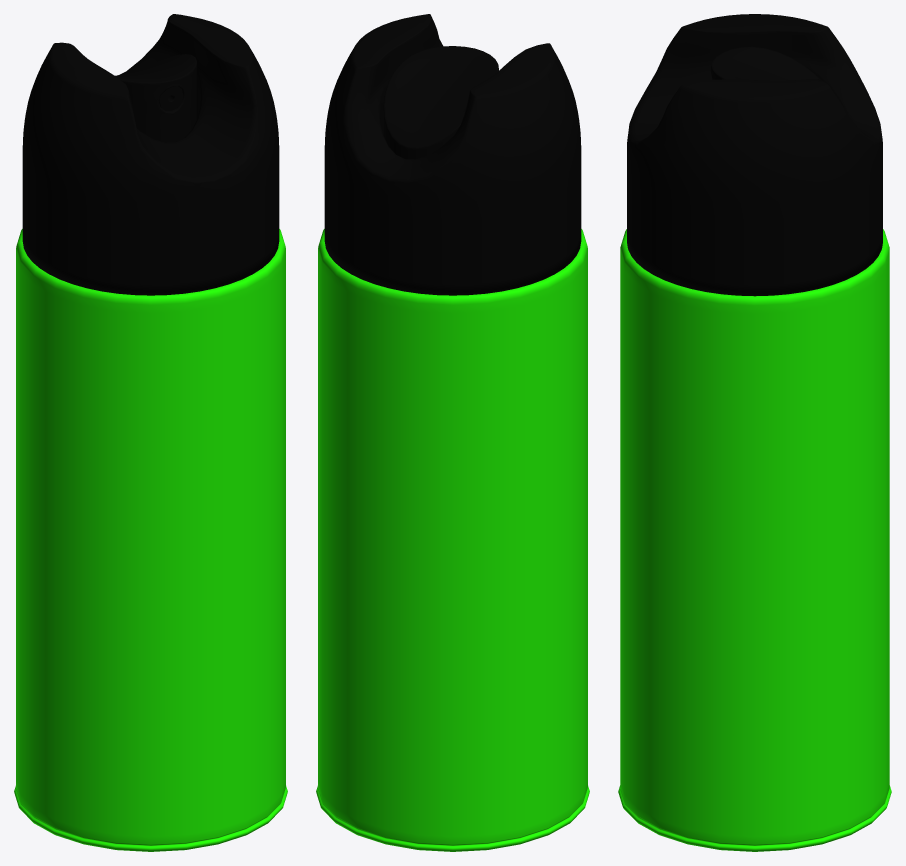
The model's file is bug spray.fbx.
3 renders of one model, left to right at view 1: azimuth 30°, elevation 25°; view 2: azimuth 150°, elevation 25°; view 3: azimuth 270°, elevation 25°, orthographic.
Visible parts, largest first — view 1: bottle, top; view 2: bottle, top; view 3: bottle, top.
Boxes of the visible parts, bbox=[...] form: bottle: bbox=[14, 229, 287, 851]; top: bbox=[22, 14, 279, 295]; bottle: bbox=[316, 229, 589, 851]; top: bbox=[324, 14, 581, 295]; bottle: bbox=[618, 229, 891, 851]; top: bbox=[627, 14, 882, 296].
Size of the model in its own units: 11.37 by 33.93 by 11.37.
